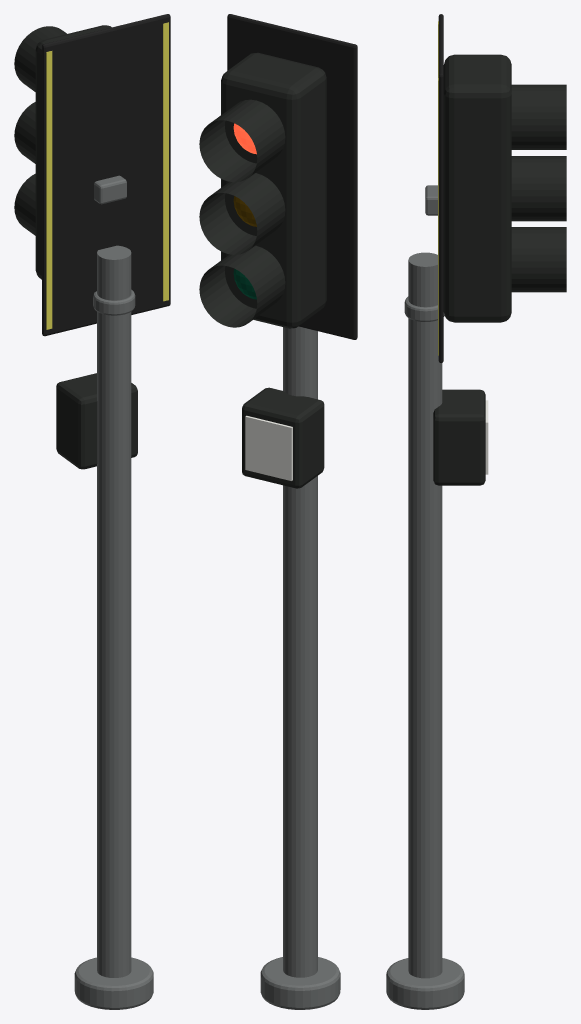
Rendered from traffic_light_red.glb.
The picture shows the model from 3 angles, left to right: view 1: azimuth 30°, elevation 25°; view 2: azimuth 150°, elevation 25°; view 3: azimuth 270°, elevation 25°; orthographic projection. The views are drawn at different scales.
Visible parts, largest first — view 1: traffic_light_red; view 2: traffic_light_red; view 3: traffic_light_red.
Part boxes in pixels (x1,y1,x2,y2): traffic_light_red: (14,14,170,1009); traffic_light_red: (199,14,357,1009); traffic_light_red: (386,14,566,1009).
Size of the model in its own units: 0.56 by 4.01 by 0.69.
